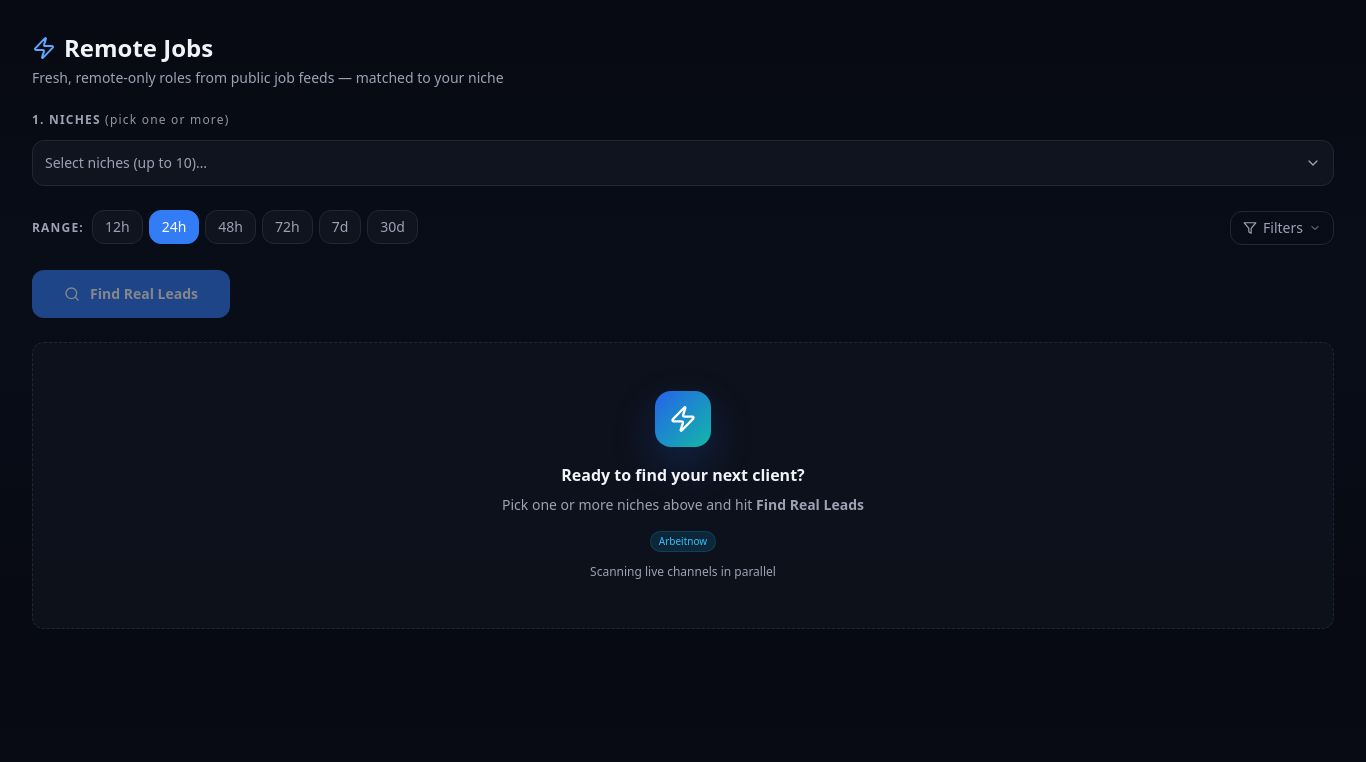
Test case: lets keyboard users open mobile filters, toggle them and clear them
The width and height of the screenshot is (1366, 762).
Click the button with aria-label "Filter jobs" at (1282, 228), box [1230,211,1334,245]
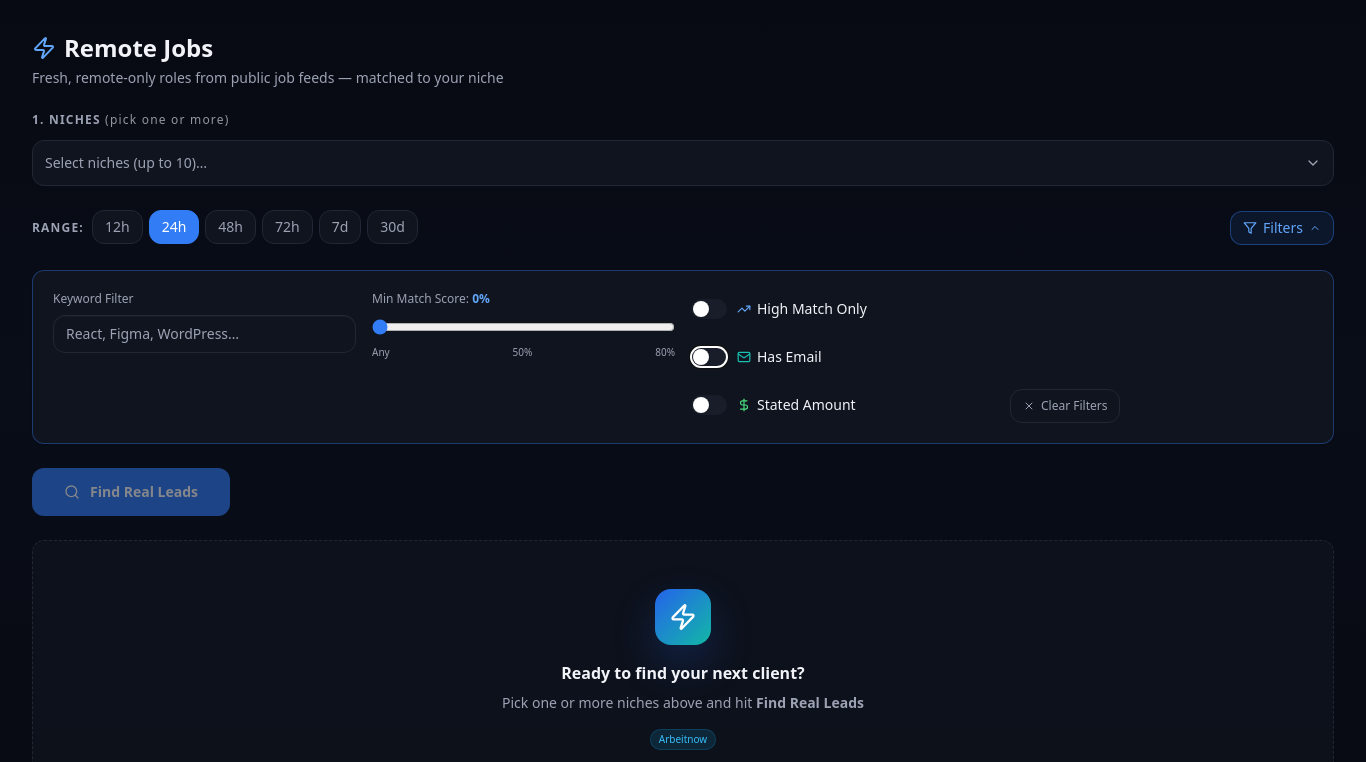
Expected: the button with aria-label "Filter jobs" is expanded, [1230,211,1334,245]
Type keys " "
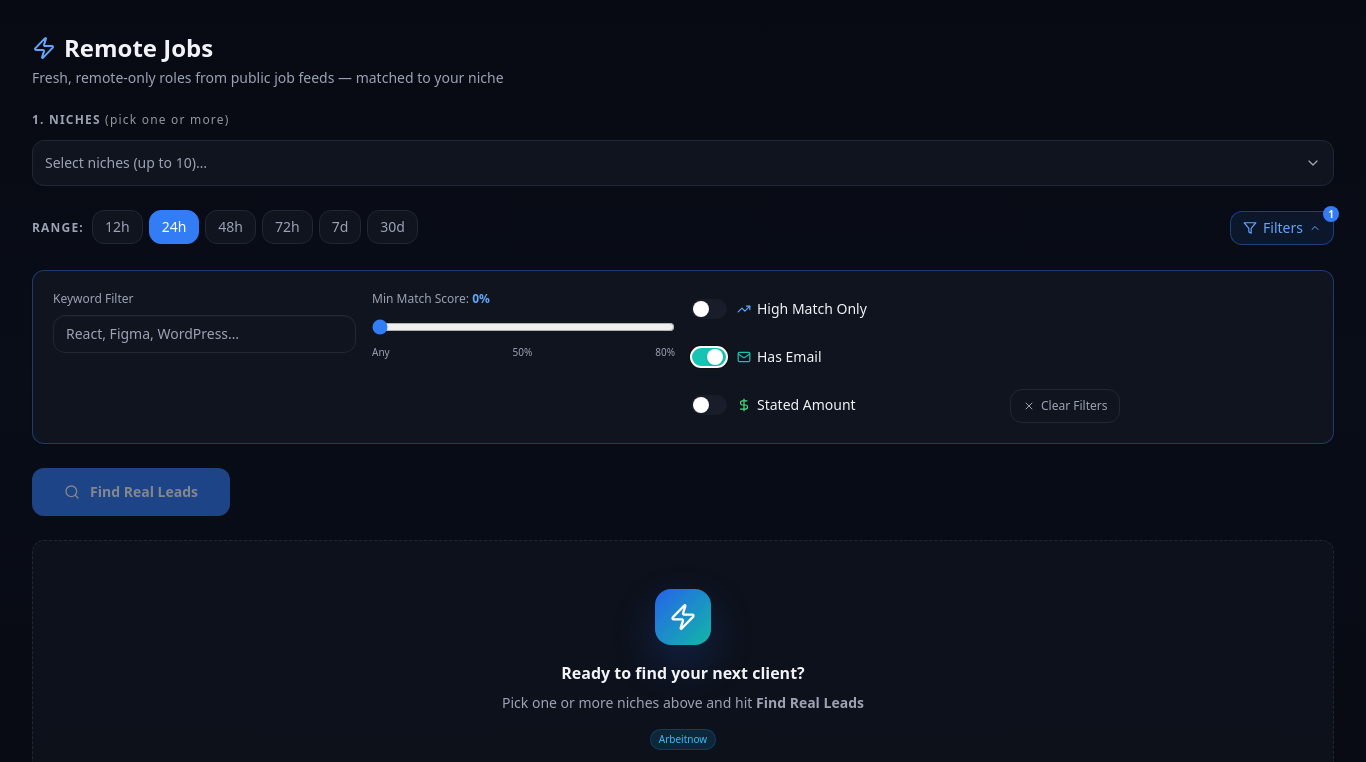
Expected: the switch named "Has Email" is checked, [691,347,727,367]
Set the slider named "Minimum Match Score" to "60" at (595, 327), box [372,319,675,335]
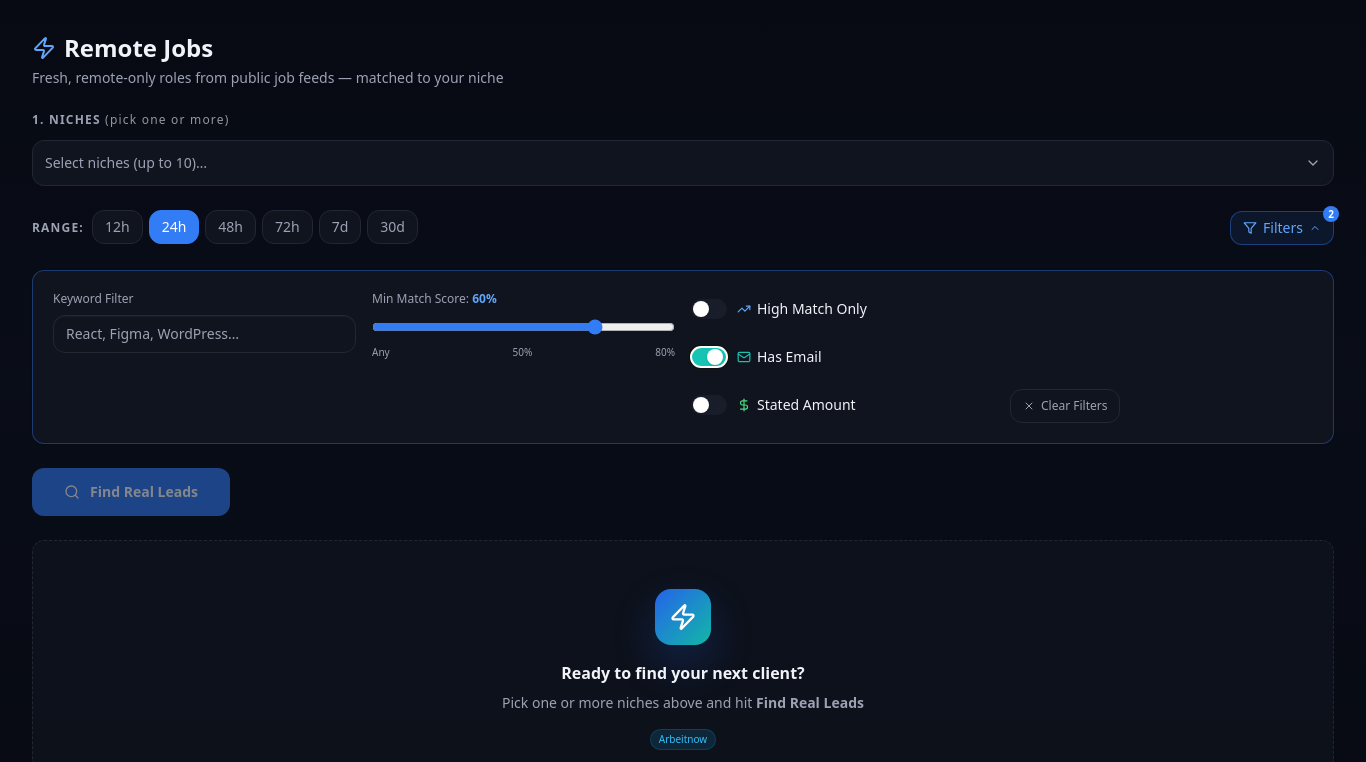
Click the button "Clear Filters" at (1065, 406), box [1010,389,1120,423]
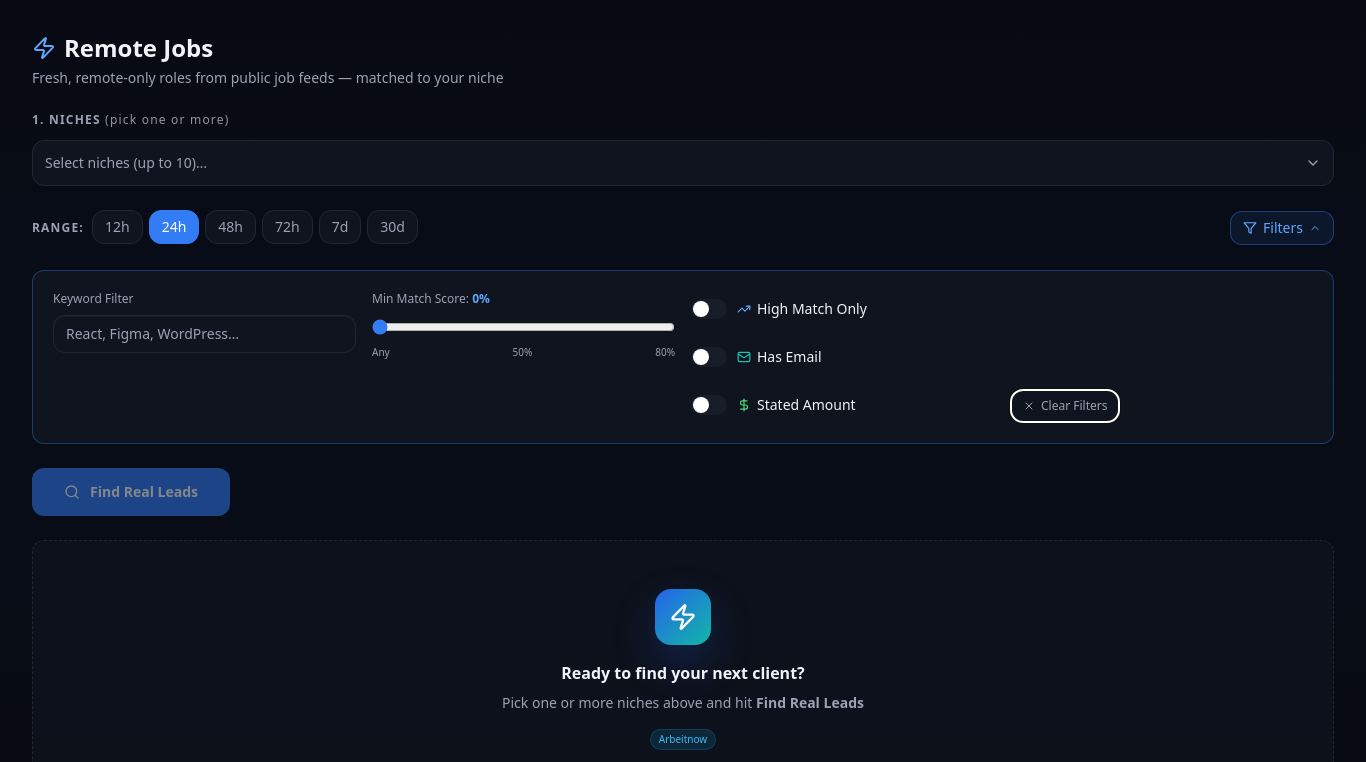
Expected: the switch named "Has Email" is not checked, [691,347,727,367]
Expected: the slider named "Minimum Match Score" holds "0", [372,319,675,335]
